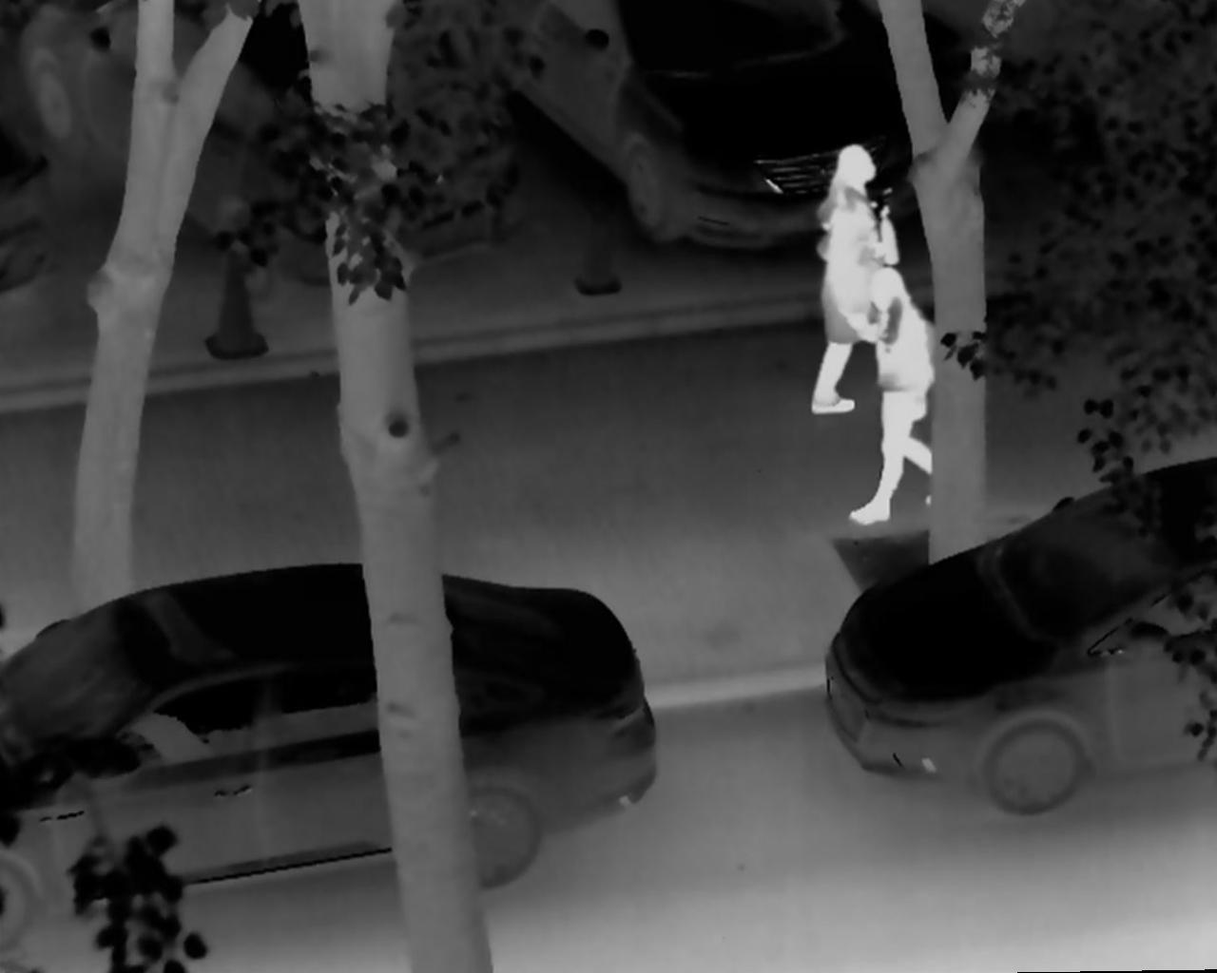person: (840, 257, 946, 524), (809, 143, 905, 416)
